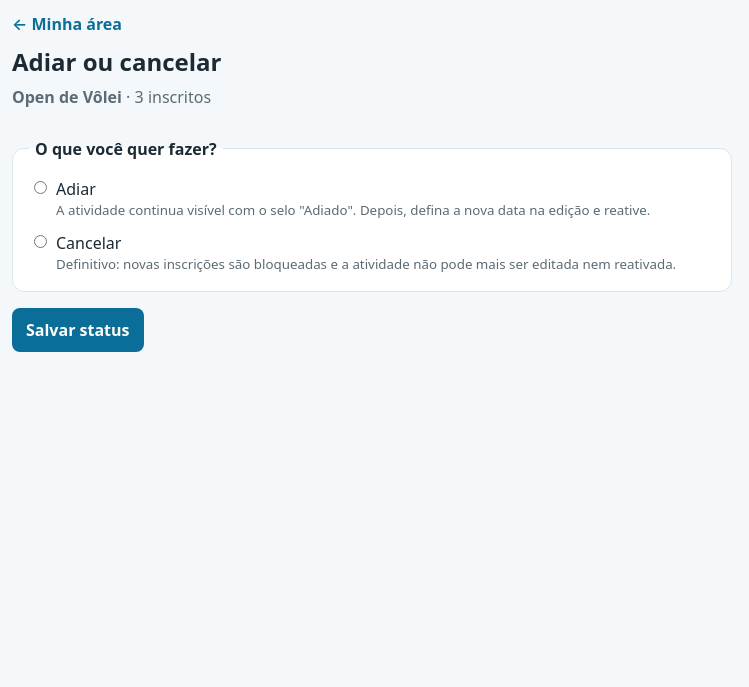
Test case: AlterarStatusPage › cancelar exige confirmar que é definitivo
Click the radio button labelled "Cancelar" at (40, 241), box [34,235,47,248]
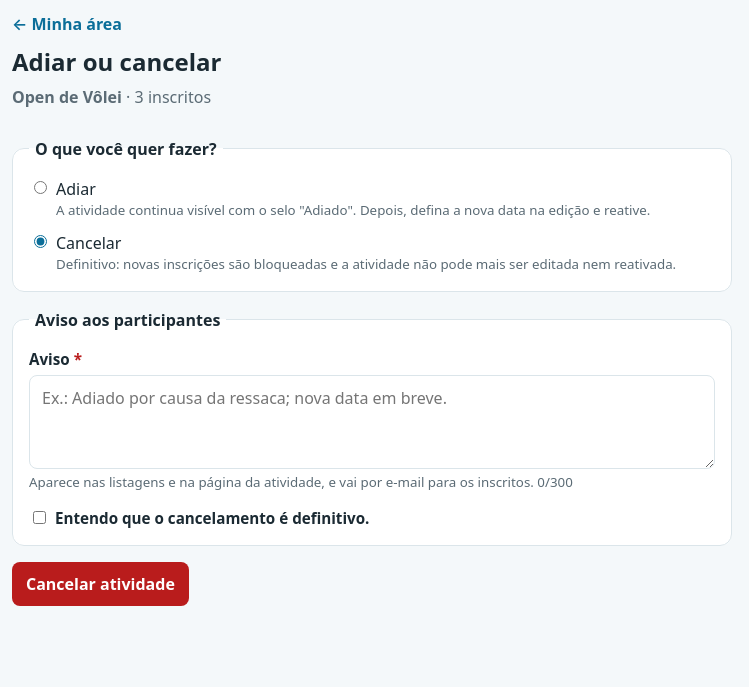
Type "Sem licença da prefeitura." into the text box labelled "Aviso *" at (372, 422), box [29,375,715,469]
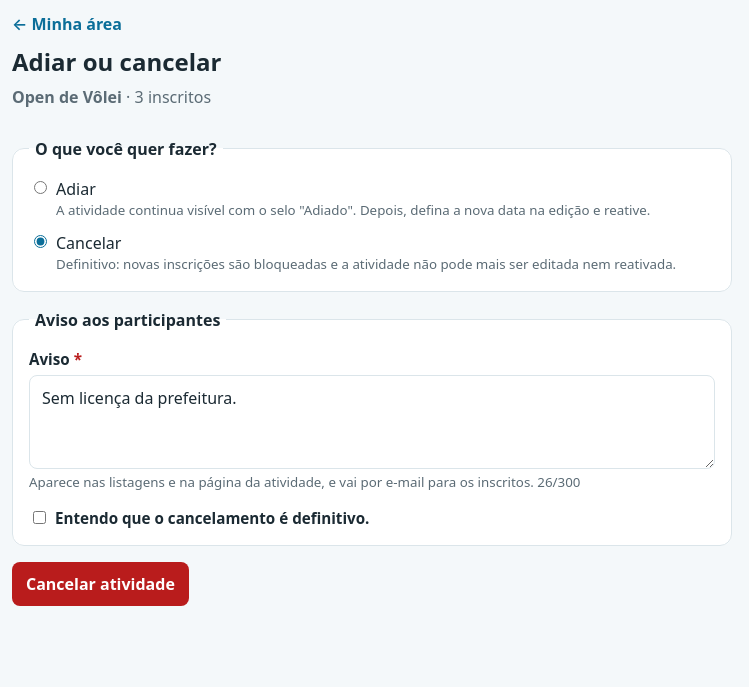
Click the button "Cancelar atividade" at (100, 584), box [12,562,189,606]
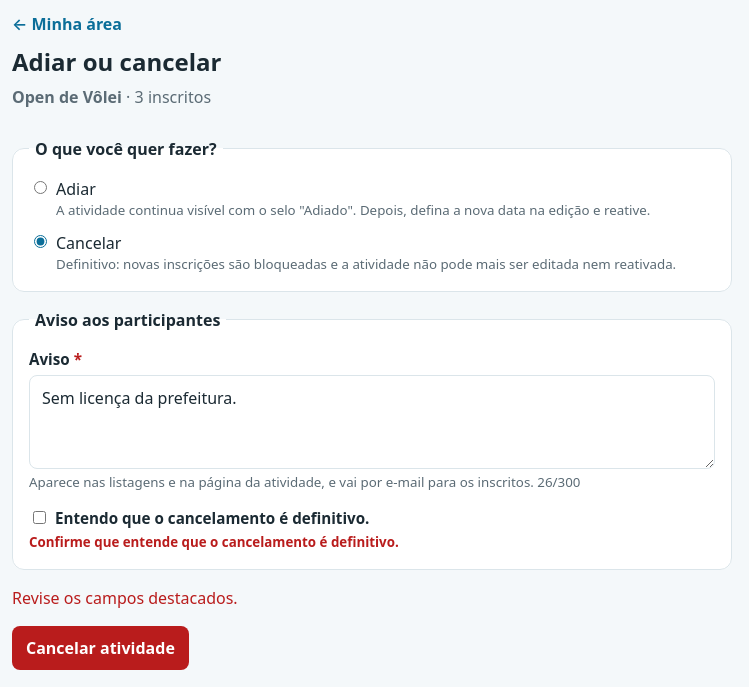
Expected: the text "Confirme que entende que o cancelamento é definitivo." is shown, [29,533,399,551]
Click the checkbox labelled "Entendo que o cancelamento é definitivo." at (40, 518), box [33,511,46,524]
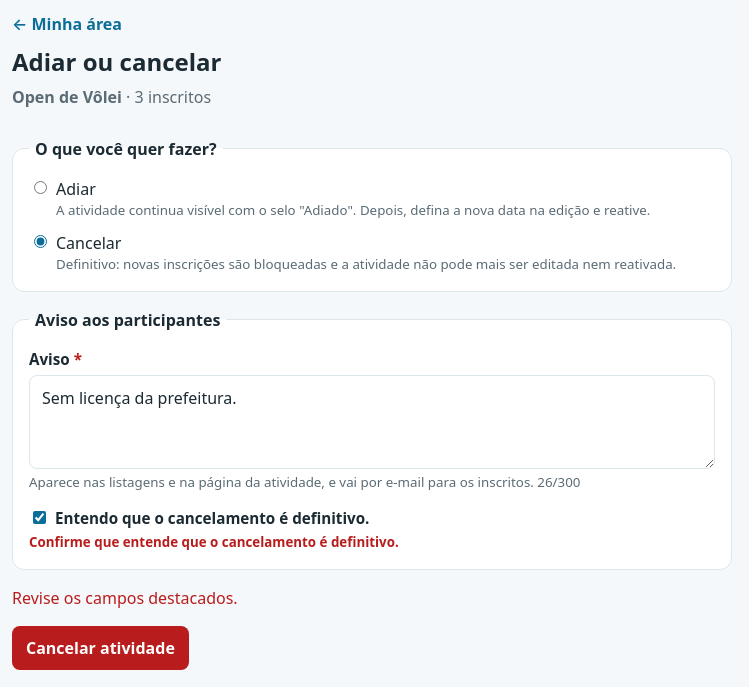
Click the button "Cancelar atividade" at (100, 648), box [12,626,189,670]
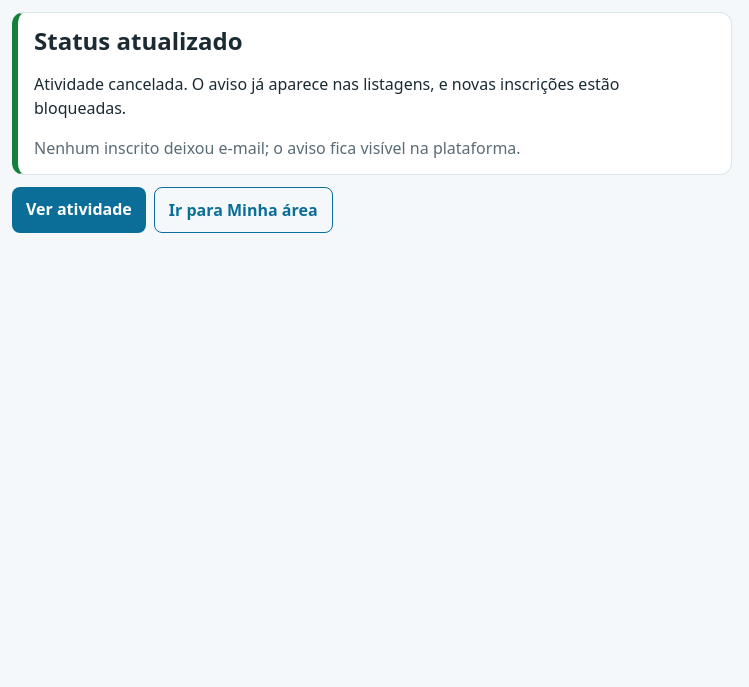
Expected: the text "novas inscrições estão bloqueadas" is shown, [34,73,620,119]
Expected: the text "Nenhum inscrito deixou e-mail" is shown, [34,137,521,159]
